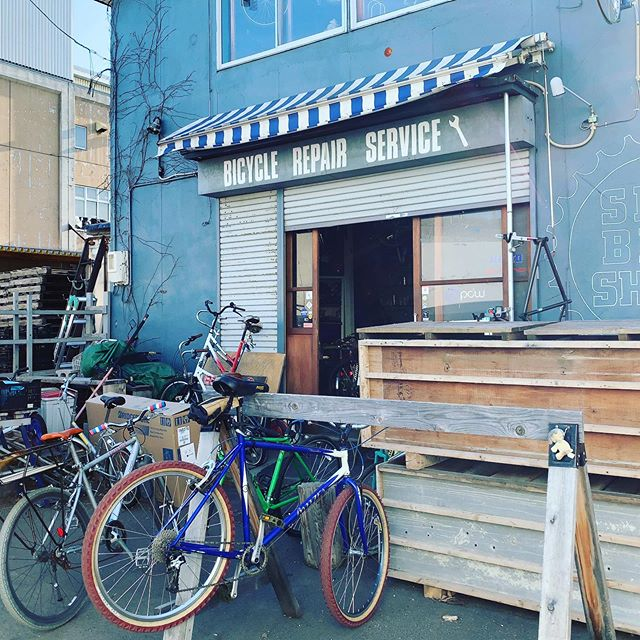bicicle: (81, 444, 427, 635), (1, 435, 174, 632)
building: (106, 1, 640, 348), (1, 51, 114, 270)
